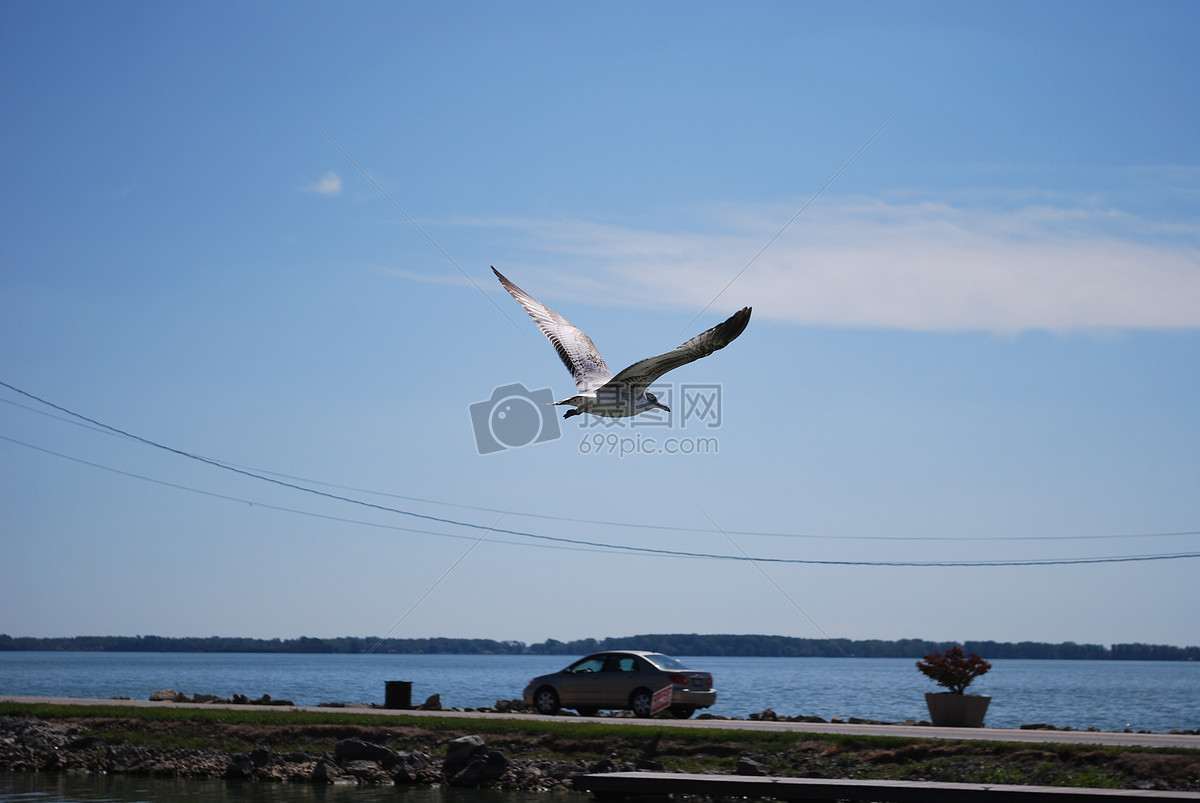airplane: (480, 268, 763, 431)
